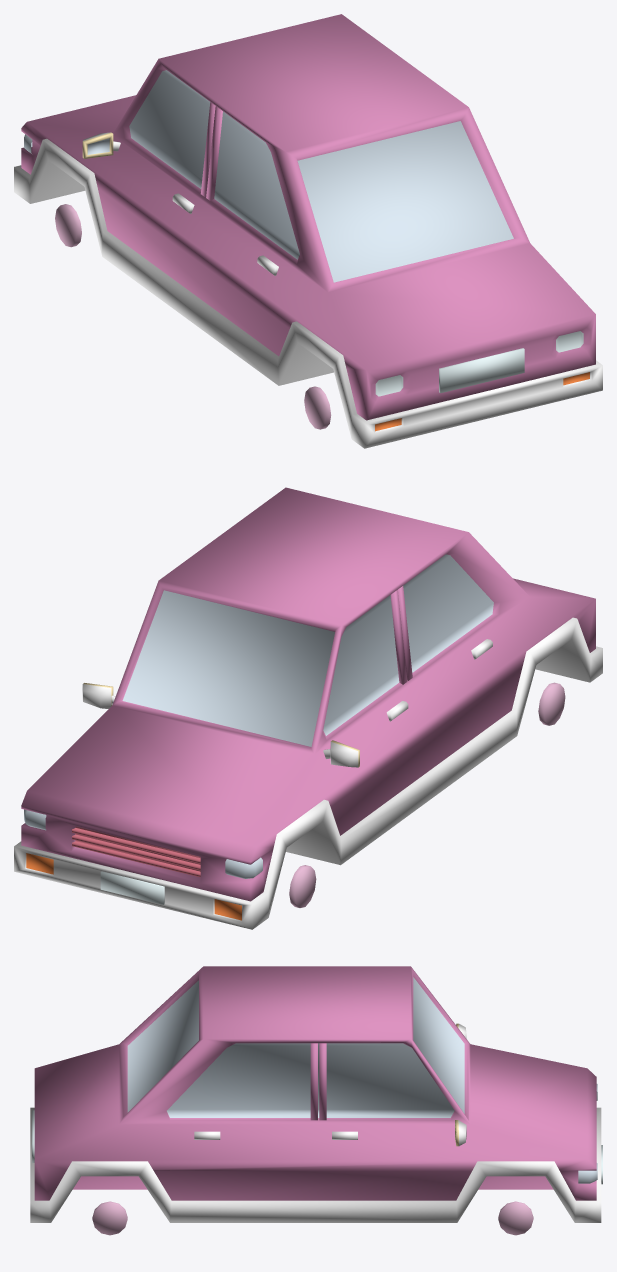
File: Car_08.fbx
3 views of the same model, one above another, from view 1: azimuth 30°, elevation 25°; view 2: azimuth 150°, elevation 25°; view 3: azimuth 270°, elevation 25° (orthographic). The views are drawn at different scales.
Visible parts, largest first — view 1: CarA_T.001; view 2: CarA_T.001; view 3: CarA_T.001.
Part boxes in pixels (left/top/right/bottom): CarA_T.001: left=14, top=14, right=602, bottom=448; CarA_T.001: left=14, top=487, right=602, bottom=929; CarA_T.001: left=30, top=966, right=602, bottom=1235.
Bounding box in the file's own units: 77.68 × 68.68 × 177.
Materials: 1 (1 with a texture image).
